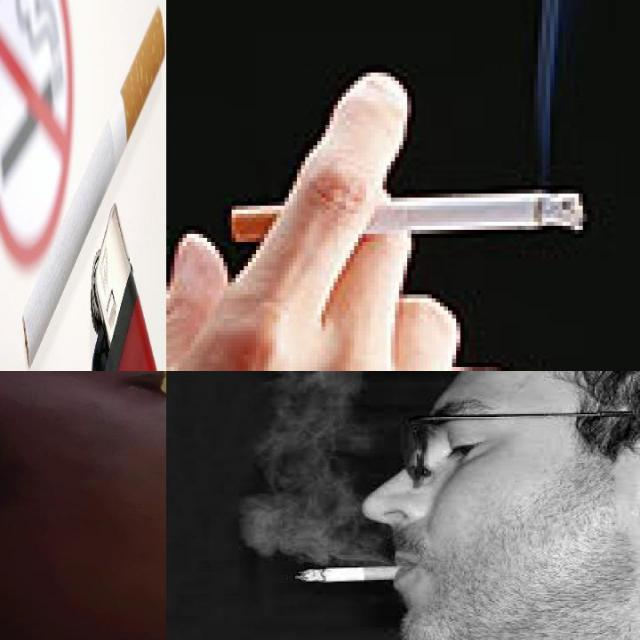smoke: (22, 8, 166, 370), (230, 192, 584, 244), (296, 564, 415, 584)
